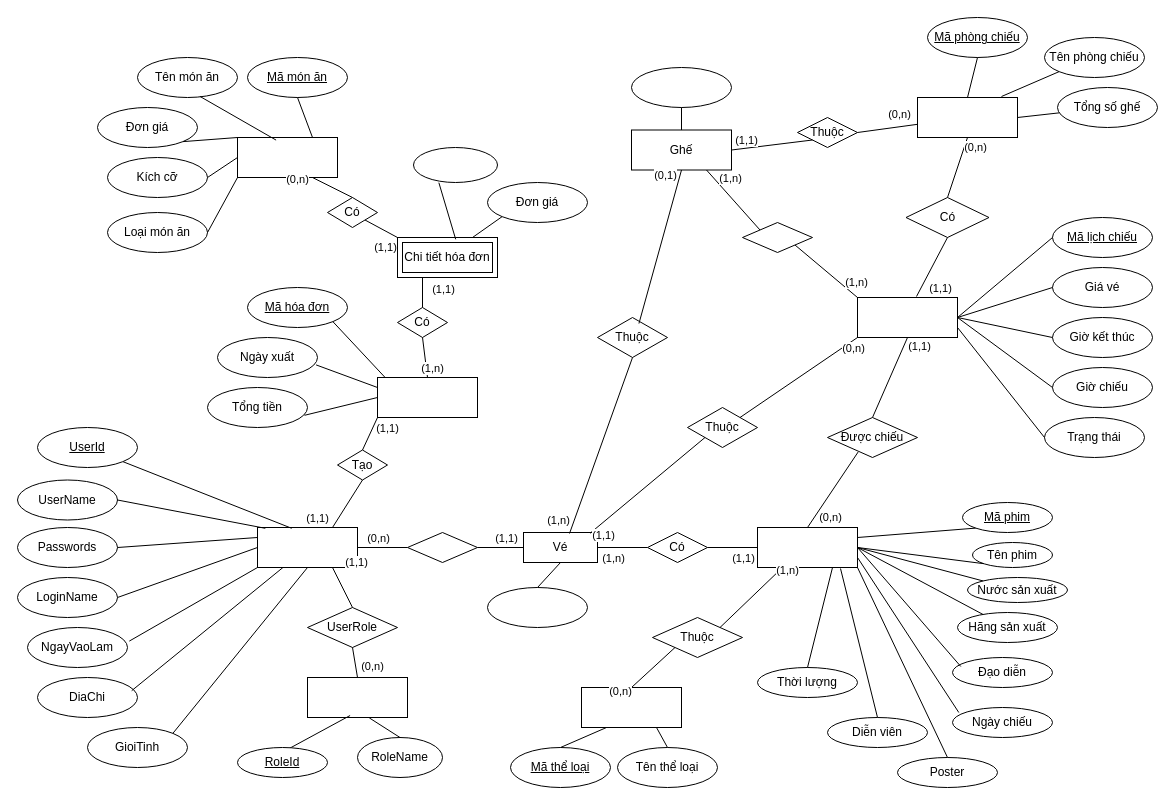
The diagram is 1175 pixels wide and 805 high, and some of its shapes have lost their labels. Here are the shapes that lost their labels. From the top down, the box of each, then its label:
(630, 66, 732, 108): Mã ghế
(916, 96, 1018, 138): Phòng chiếu
(236, 136, 338, 178): Món ăn
(412, 146, 498, 182): Số lượng
(742, 222, 812, 252): Ghế đặt
(856, 296, 958, 338): Lịch chiếu
(376, 376, 478, 418): Hóa đơn
(256, 526, 358, 568): User
(406, 532, 478, 562): Bán
(756, 526, 858, 568): Phim
(486, 586, 588, 628): Ngày bán
(306, 676, 408, 718): Role
(580, 686, 682, 728): Thể loại
